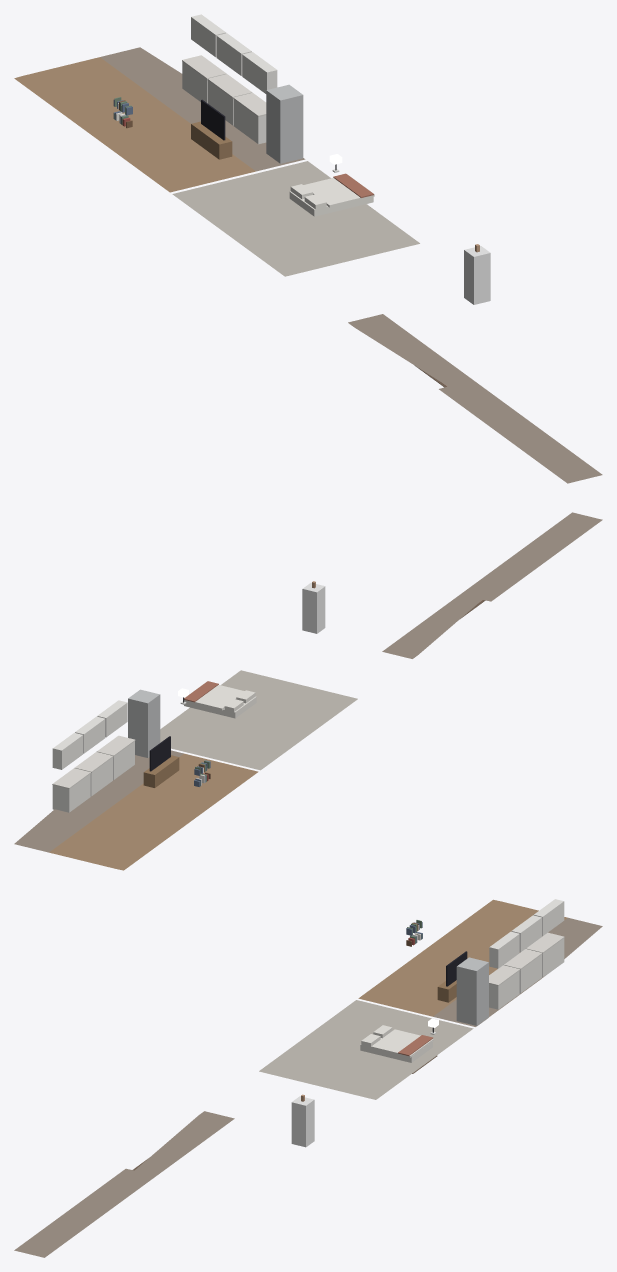
File: fine-s0.glb
3 renders of one model, top to bottom at view 1: azimuth 30°, elevation 25°; view 2: azimuth 150°, elevation 25°; view 3: azimuth 330°, elevation 25°, orthographic. The views are drawn at different scales.
Parts seen in each view (by area): view 1: soft-s0, fridge.000, tv-console.000, water-heater.000, counter-run.002, counter-run.000, counter-run.001, kitchen-upper.002, kitchen-upper.001, kitchen-upper.000; view 2: soft-s0, fridge.000, counter-run.000, tv-console.000, water-heater.000, counter-run.001, counter-run.002, kitchen-upper.000, kitchen-upper.002, kitchen-upper.001; view 3: soft-s0, fridge.000, water-heater.000, counter-run.002, counter-run.000, counter-run.001, kitchen-upper.002, tv-console.000, kitchen-upper.001, kitchen-upper.000.
Boxes of the visible parts, x1=… form: soft-s0: x1=14, y1=47, x2=602, y2=483; fridge.000: x1=266, y1=84, x2=303, y2=163; tv-console.000: x1=191, y1=99, x2=232, y2=159; water-heater.000: x1=464, y1=244, x2=490, y2=304; counter-run.002: x1=233, y1=92, x2=266, y2=144; counter-run.000: x1=182, y1=55, x2=226, y2=103; counter-run.001: x1=207, y1=74, x2=252, y2=125; kitchen-upper.002: x1=242, y1=52, x2=277, y2=93; kitchen-upper.001: x1=216, y1=33, x2=251, y2=75; kitchen-upper.000: x1=191, y1=14, x2=226, y2=57; soft-s0: x1=14, y1=512, x2=602, y2=870; fridge.000: x1=128, y1=689, x2=160, y2=757; counter-run.000: x1=52, y1=768, x2=90, y2=812; tv-console.000: x1=143, y1=736, x2=179, y2=787; water-heater.000: x1=302, y1=581, x2=325, y2=633; counter-run.001: x1=75, y1=752, x2=113, y2=796; counter-run.002: x1=96, y1=735, x2=135, y2=779; kitchen-upper.000: x1=52, y1=732, x2=83, y2=769; kitchen-upper.002: x1=97, y1=700, x2=127, y2=737; kitchen-upper.001: x1=75, y1=716, x2=105, y2=753; soft-s0: x1=14, y1=899, x2=602, y2=1257; fridge.000: x1=456, y1=957, x2=488, y2=1025; water-heater.000: x1=291, y1=1094, x2=314, y2=1147; counter-run.002: x1=489, y1=965, x2=520, y2=1009; counter-run.000: x1=526, y1=932, x2=564, y2=977; counter-run.001: x1=504, y1=949, x2=542, y2=993; kitchen-upper.002: x1=489, y1=931, x2=519, y2=968; tv-console.000: x1=437, y1=951, x2=467, y2=1002; kitchen-upper.001: x1=511, y1=915, x2=541, y2=952; kitchen-upper.000: x1=534, y1=899, x2=564, y2=936.
Bounding box in the file's own units: 4.44 × 2.2 × 31.32.
